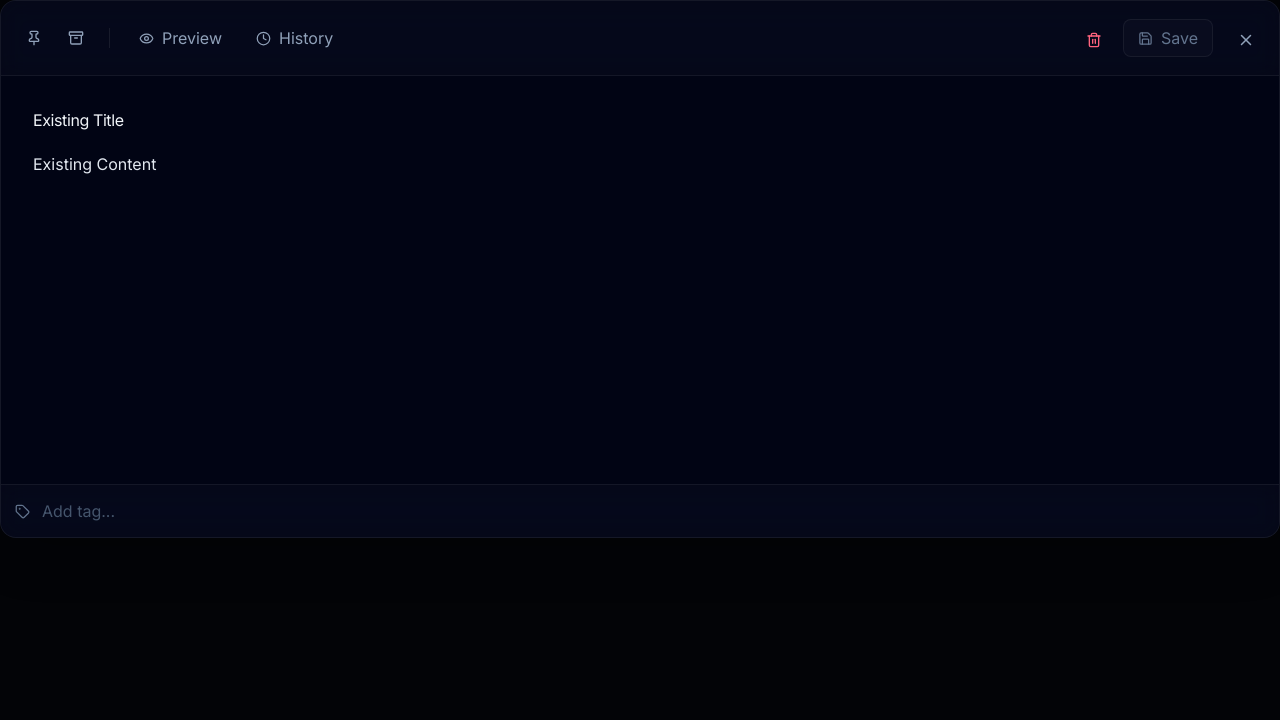
Test case: NoteEditor › enables Save button when a tag is added to an existing note
Expected: the button "Save" is disabled, [1123,19,1213,57]
Type "react" into the field with placeholder "Add tag..." at (90, 511), box [42,499,138,523]
Then press Enter
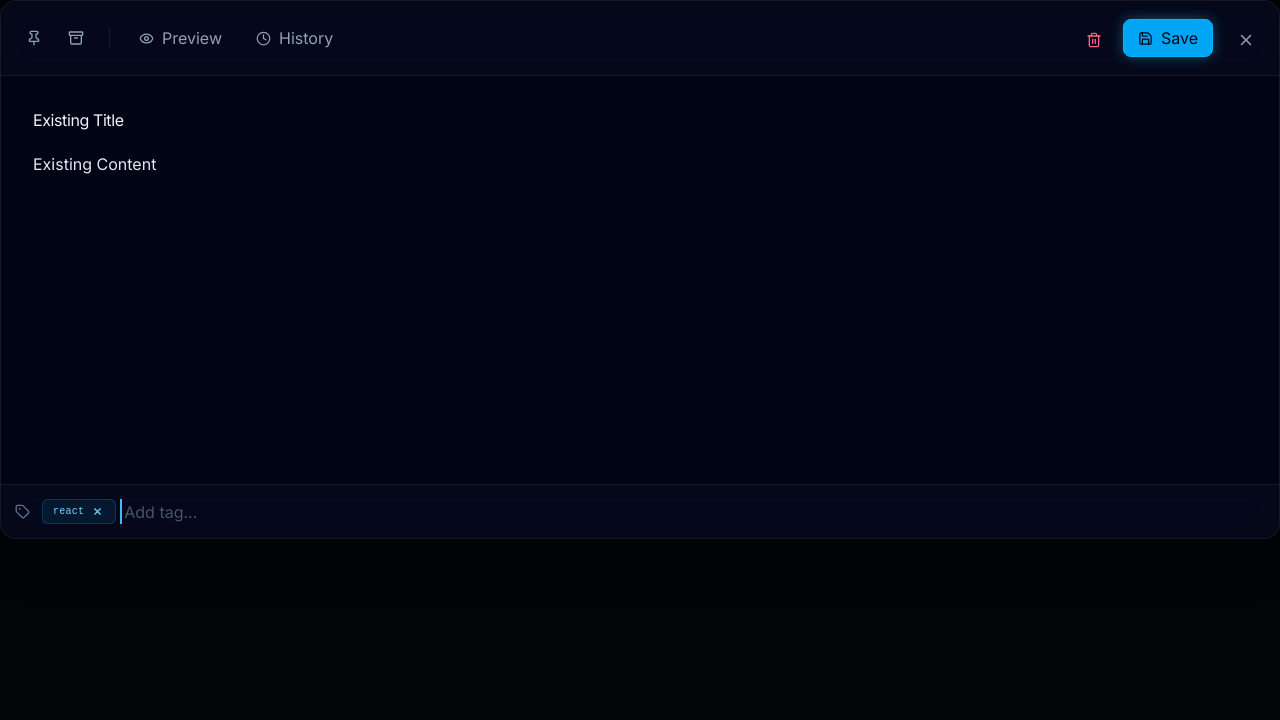
Now the button "Save" is enabled, box [1123,19,1213,57]
